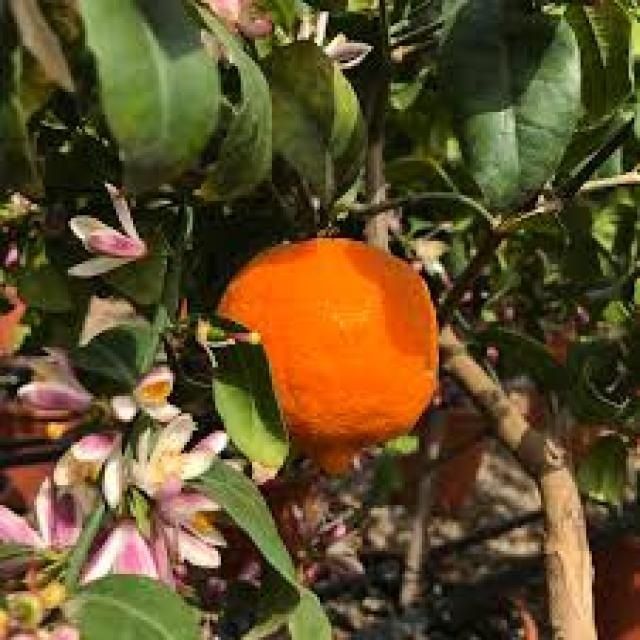orange: (207, 218, 452, 481)
